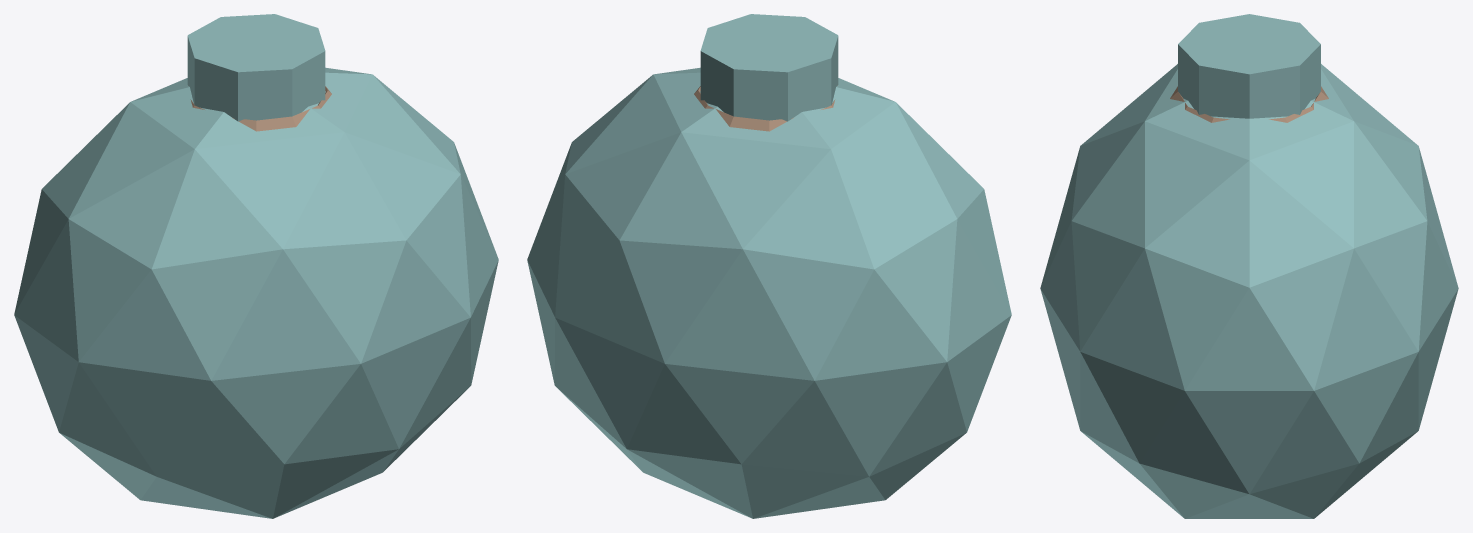
The model's file is cargo_refined.fbx.
3 renders of one model, left to right at view 1: azimuth 30°, elevation 25°; view 2: azimuth 150°, elevation 25°; view 3: azimuth 270°, elevation 25°, orthographic.
Parts seen in each view (by area): view 1: cargo_refined_mesh; view 2: cargo_refined_mesh; view 3: cargo_refined_mesh.
Boxes of the visible parts, x1=… form: cargo_refined_mesh: x1=14, y1=14, x2=498, y2=518; cargo_refined_mesh: x1=527, y1=14, x2=1011, y2=518; cargo_refined_mesh: x1=1040, y1=14, x2=1458, y2=518.
Size of the model in its own units: 0.4375 by 0.459 by 0.3772.
